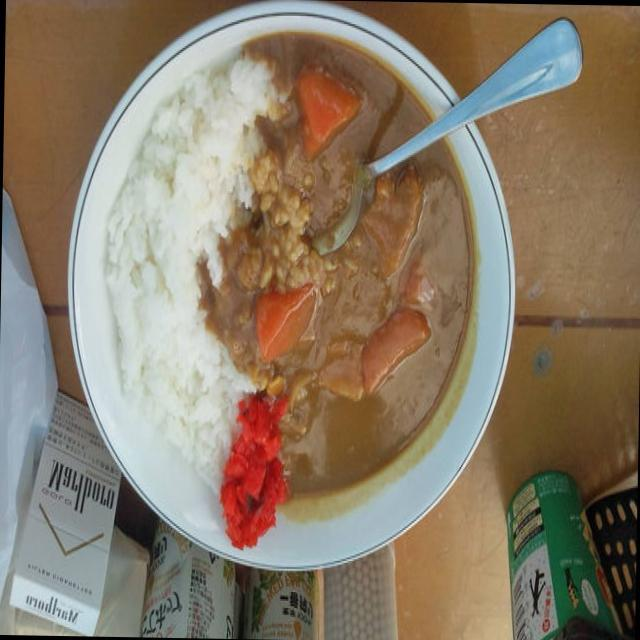Beef Curry: (252, 37, 474, 496)
